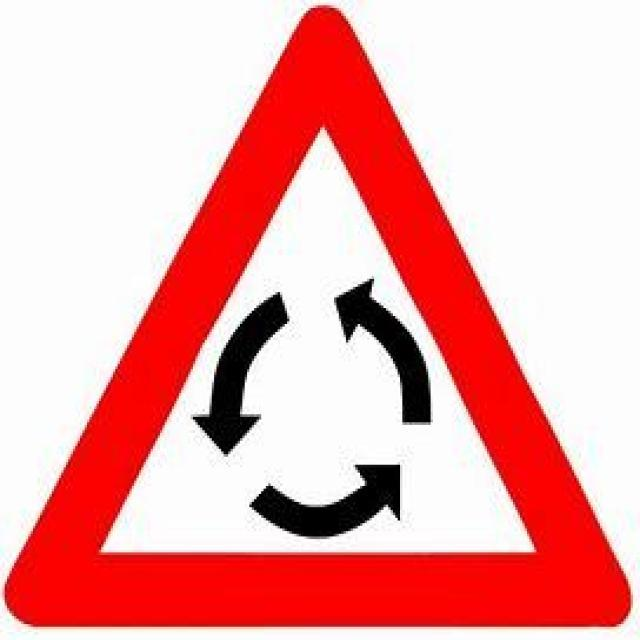roundabout: (16, 17, 623, 621)
